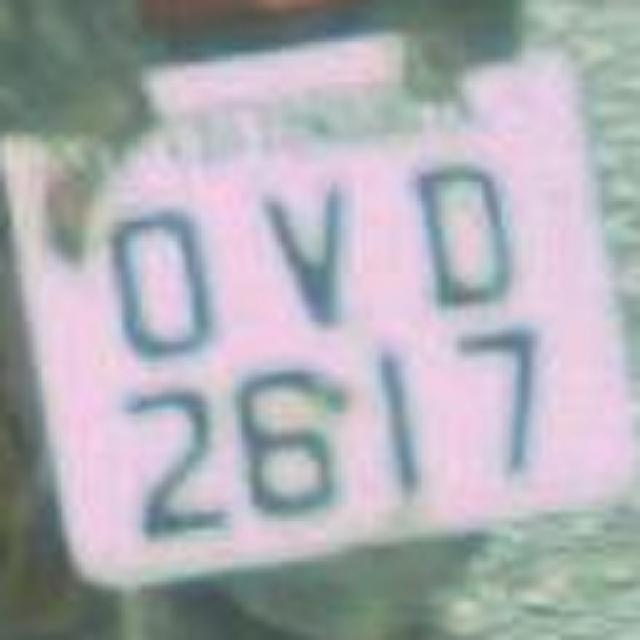1: (336, 328, 449, 520)
2: (92, 356, 248, 556)
6: (200, 336, 365, 536)
7: (436, 300, 572, 500)
O: (92, 184, 236, 364), (400, 136, 540, 316)
V: (240, 160, 380, 335)
